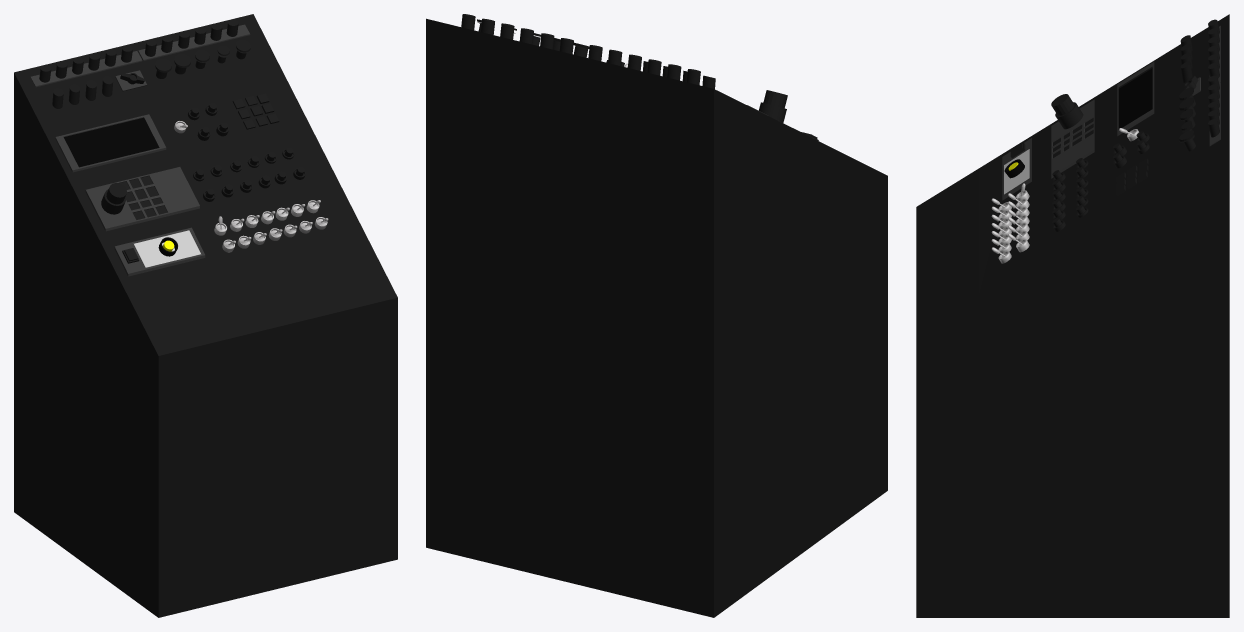
File: 조종석4(05-26).FBX
The picture shows the model from 3 angles, left to right: view 1: azimuth 30°, elevation 25°; view 2: azimuth 150°, elevation 25°; view 3: azimuth 270°, elevation 25°; orthographic projection. The views are drawn at different scales.
Parts seen in each view (by area): view 1: Box001; view 2: Box001; view 3: Box001.
Part boxes in pixels (x1,y1,x2,y2): Box001: (14, 14, 397, 617); Box001: (426, 14, 887, 617); Box001: (916, 14, 1229, 617).
Size of the model in its own units: 220 by 391 by 230.
